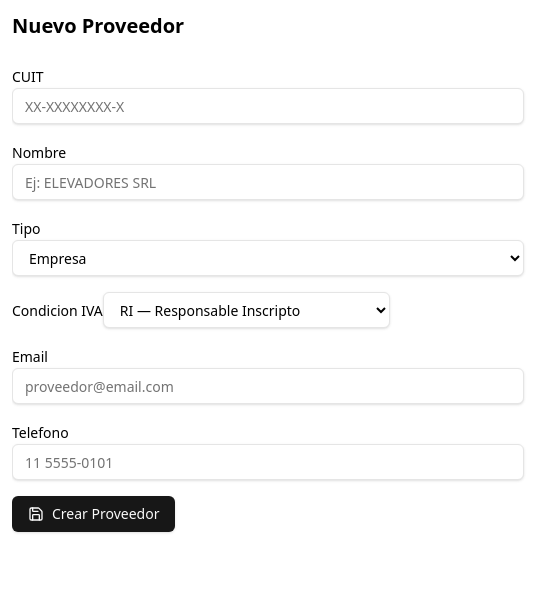
Test: ProviderForm › [@validation] REQUIRED fields show errors on empty submit
The width and height of the screenshot is (541, 594).
Click the button "Crear Proveedor" at (94, 514), box [12,496,176,532]
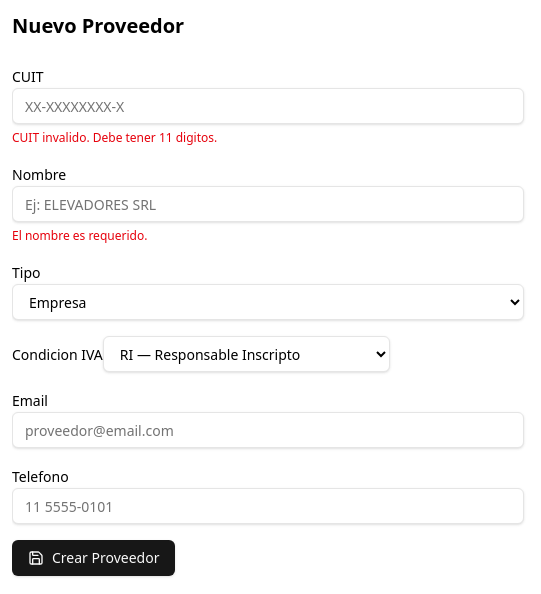
Expected: the text "CUIT invalido. Debe tener 11 digitos." is shown, [12,129,217,146]
Expected: the text "El nombre es requerido." is shown, [12,227,147,244]
